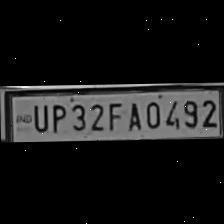0: (142, 98, 160, 129)
2: (198, 96, 218, 129), (87, 100, 105, 132)
3: (66, 101, 86, 132)
4: (161, 96, 179, 130)
9: (180, 96, 198, 129)
A: (124, 99, 142, 130)
F: (104, 99, 122, 131)
P: (48, 101, 66, 133)
U: (28, 102, 48, 133)
